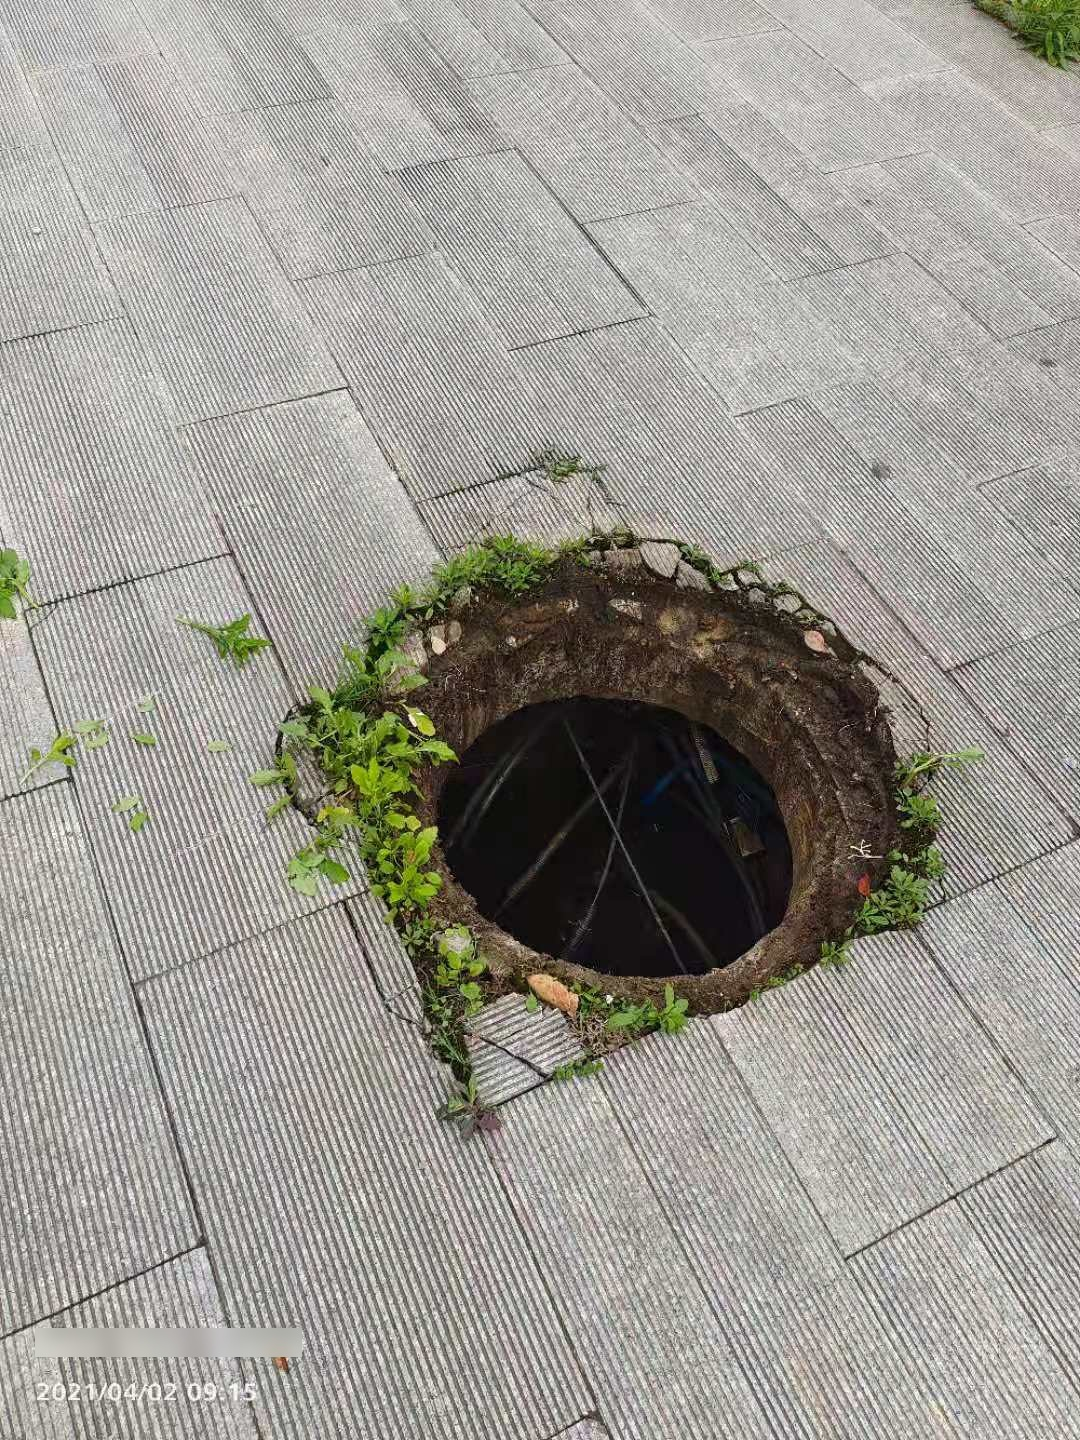lose: (363, 570, 885, 1022)
